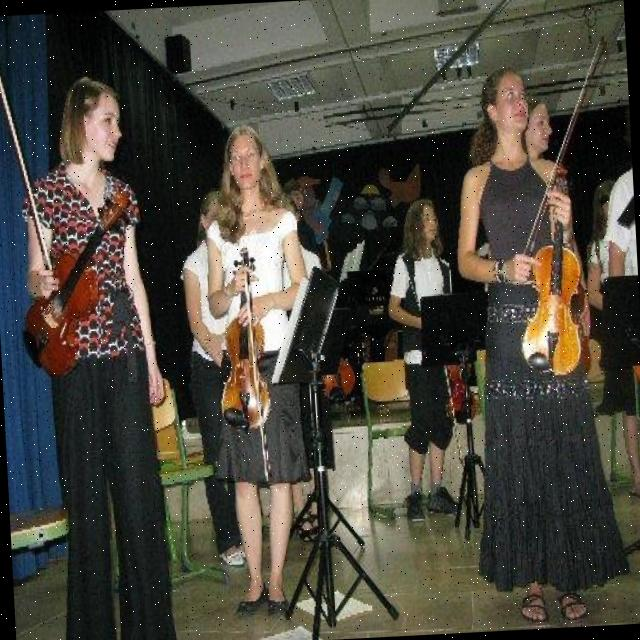violin: (12, 186, 142, 383), (514, 166, 588, 380), (214, 242, 274, 431)
